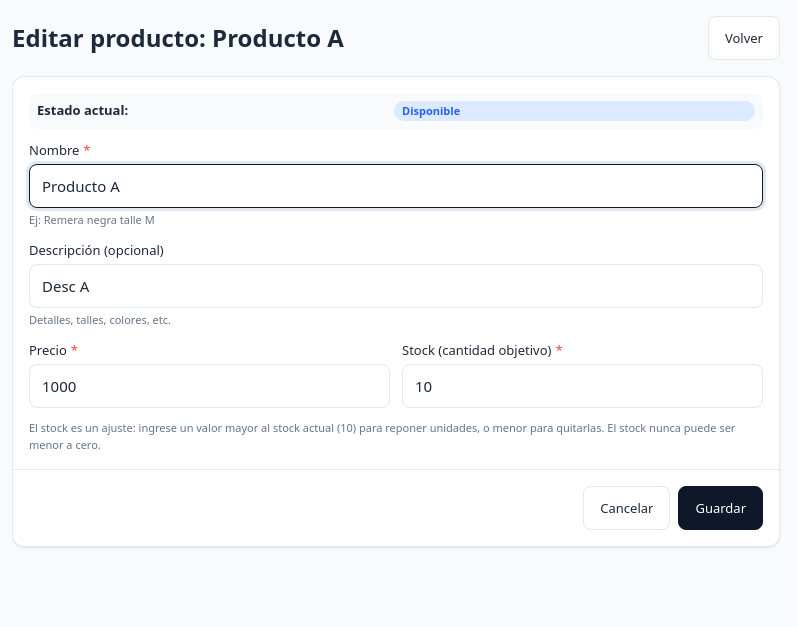
Test case: InventoryForm › Edit Mode › shows validation error when name is empty
The width and height of the screenshot is (797, 627).
Clear the field labelled "Nombre *" at (396, 186), box [29,164,763,208]
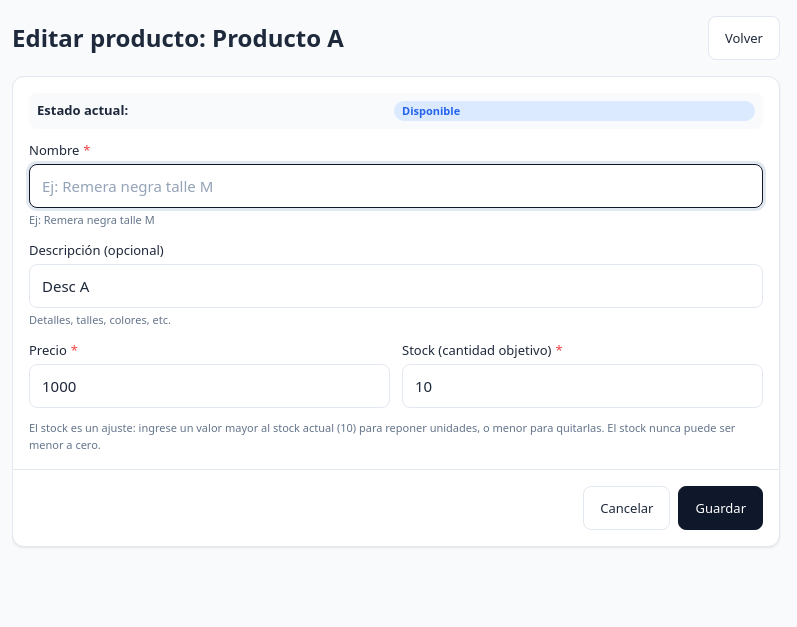
Click the button "Guardar".
click(721, 508)  # box [678,486,763,530]
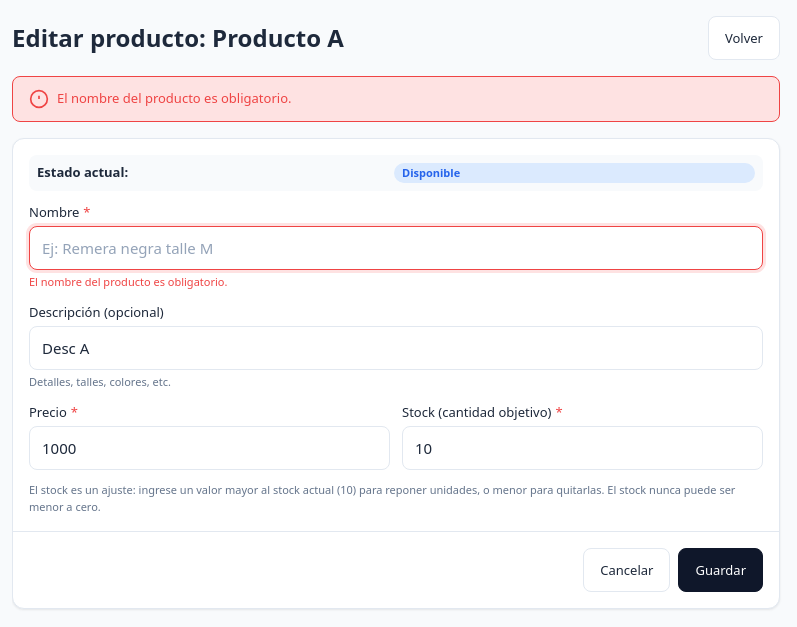
Expected: the text "El nombre del producto es obligatorio." is shown, [57,89,292,108]
